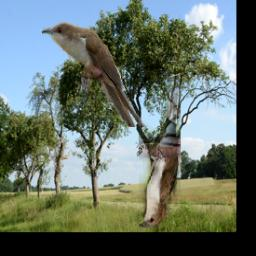Cuckoo: (41, 23, 144, 128), (138, 76, 180, 228)
